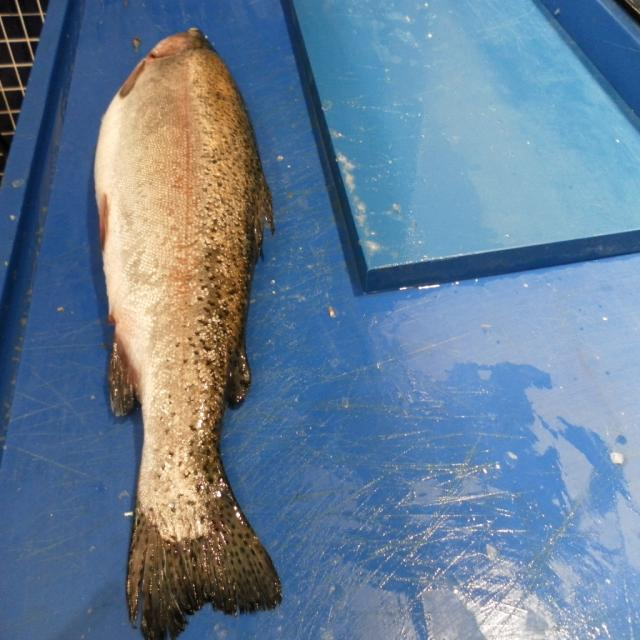Trout-alabalik-: (95, 28, 281, 638)
